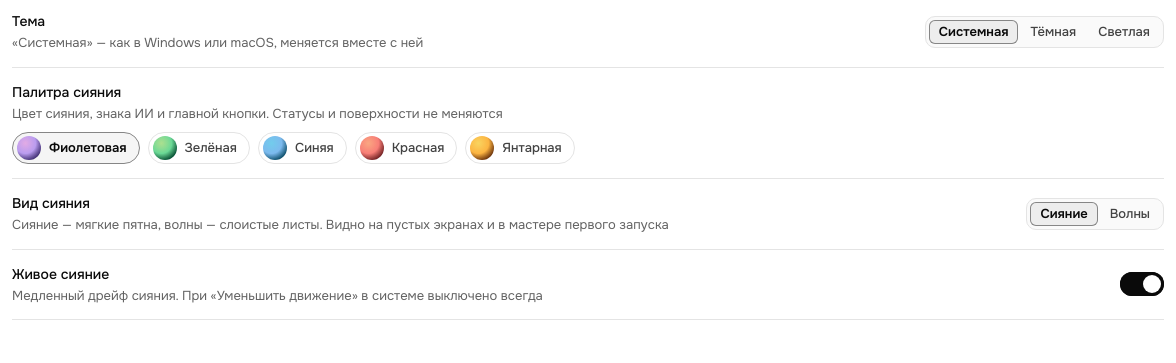
Test: резидент не сохранил — выбор откатывается и видна ошибка
The width and height of the screenshot is (1176, 363).
Click the radio button labelled "Светлая".
click(1124, 32)  # box [1088,20,1160,44]
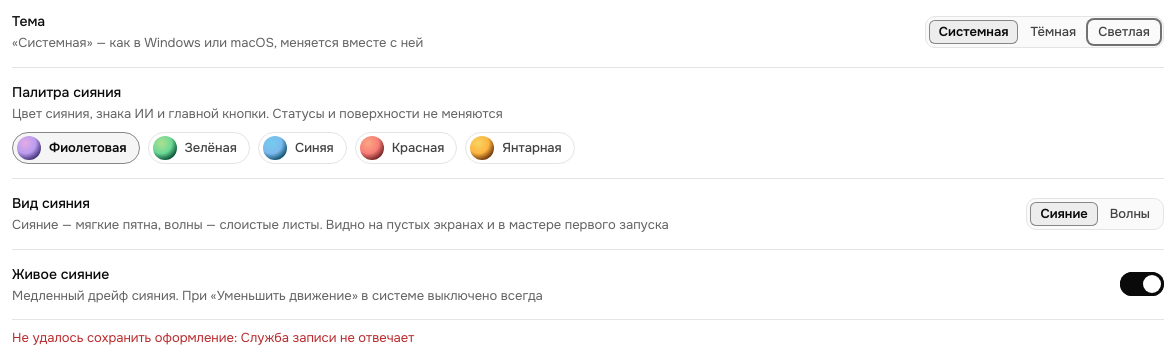
Now the message shows "Служба записи не отвечает", box [241,329,414,346]
